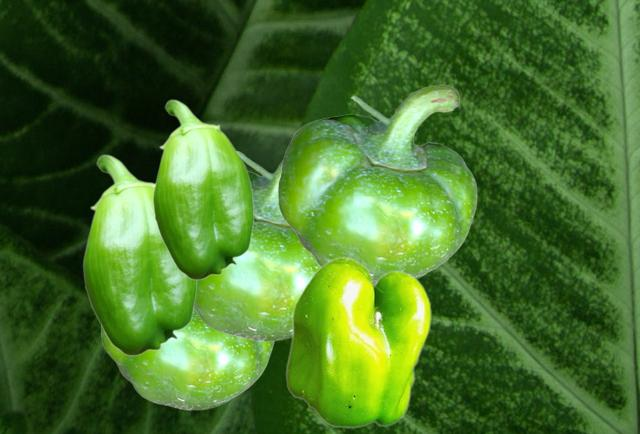bell_pepper: (278, 84, 476, 281), (285, 256, 430, 427), (195, 149, 318, 340), (82, 154, 196, 355), (152, 99, 253, 279), (101, 311, 274, 409)
